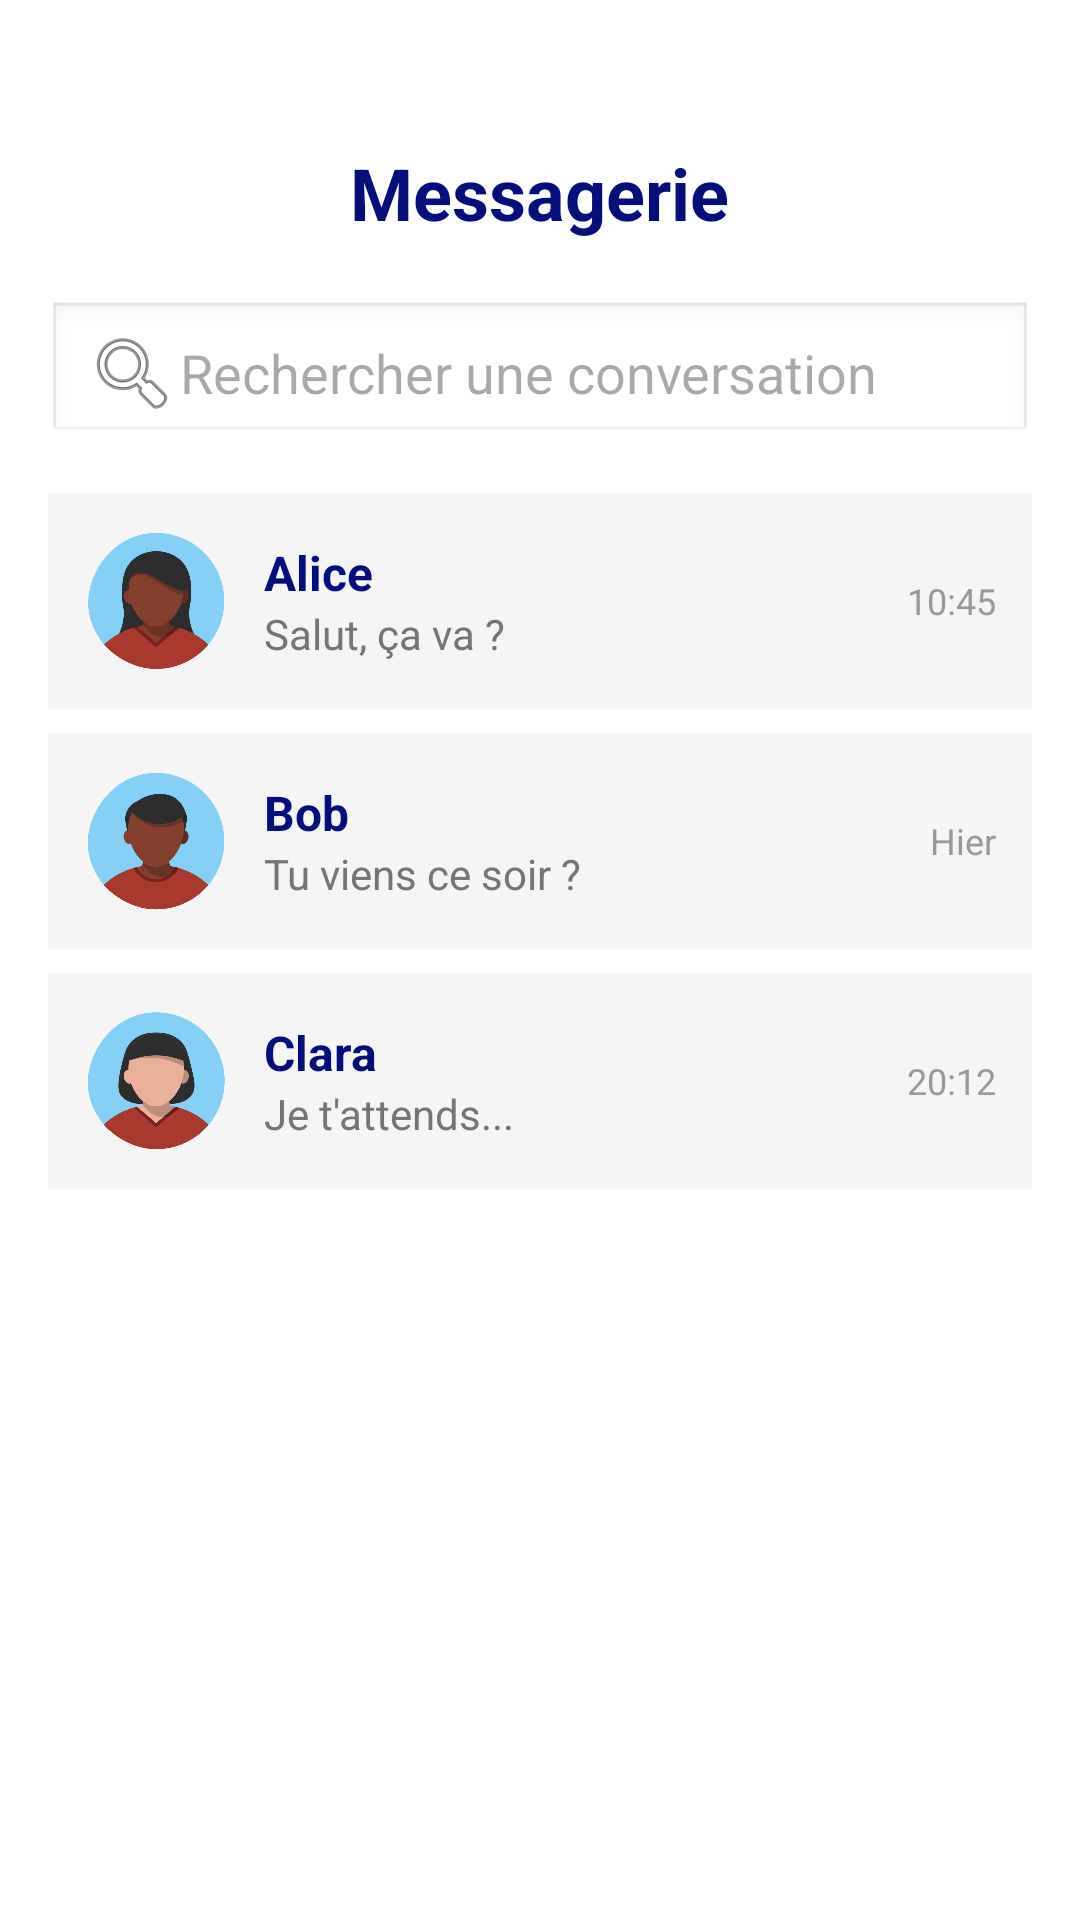

Where to tap for icons on this 1080w x 1920h app screen, as (x,y):
men: (156,841)
women: (156,601), (156,1080)
